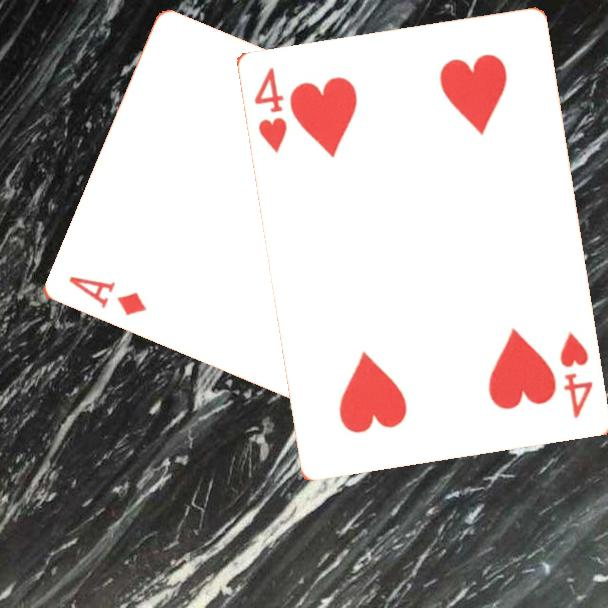d01: (64, 273, 150, 319)
h04: (556, 327, 596, 421), (250, 63, 289, 156)
